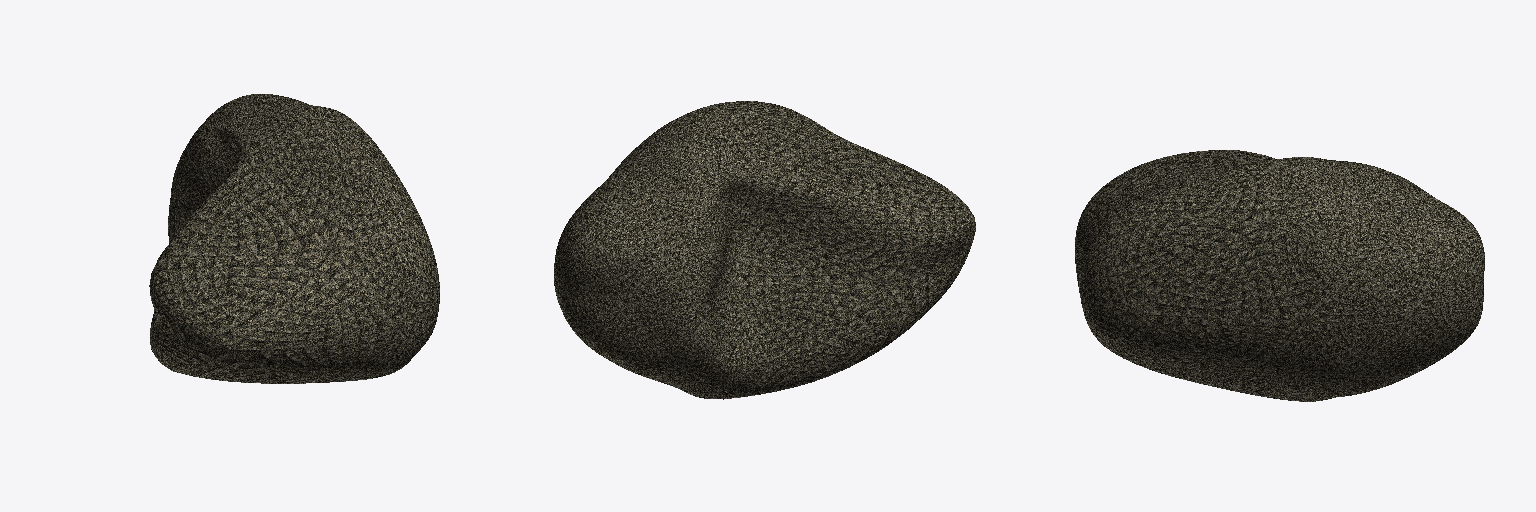
3 views of the same model, side by side, from view 1: azimuth 30°, elevation 25°; view 2: azimuth 150°, elevation 25°; view 3: azimuth 270°, elevation 25° (orthographic).
Parts seen in each view (by area): view 1: Icosphere; view 2: Icosphere; view 3: Icosphere.
Boxes of the visible parts, box(x1,y1,x2,y2) form: Icosphere: box(149, 94, 439, 383); Icosphere: box(554, 101, 975, 399); Icosphere: box(1075, 150, 1484, 401).
Bounding box in the file's own units: 2.68 × 2.18 × 3.29.
1 materials, 1 textured.